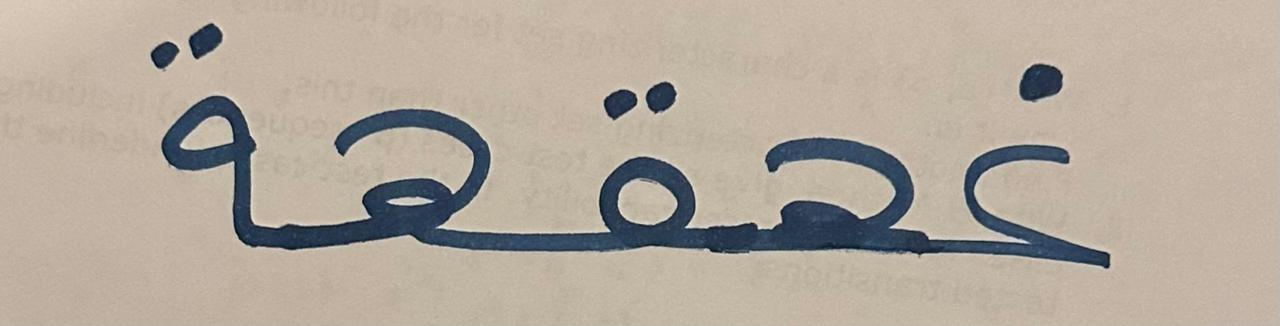ghain: (947, 3, 1163, 302)
jeem: (284, 6, 520, 294), (733, 4, 942, 307)
reh: (524, 13, 729, 296)
thal: (110, 6, 281, 287)
